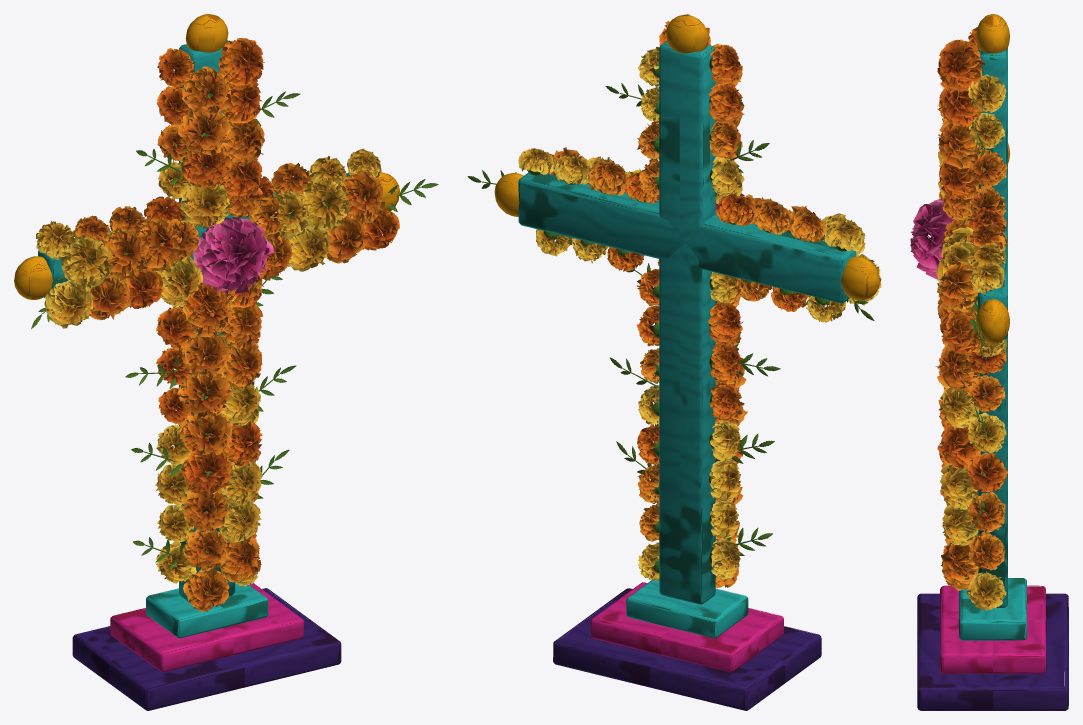
Rendered from w3_altar_crossmarigold.glb.
3 renders of one model, left to right at view 1: azimuth 30°, elevation 25°; view 2: azimuth 150°, elevation 25°; view 3: azimuth 270°, elevation 25°, orthographic.
Parts seen in each view (by area): view 1: w3_altar_crossmarigold; view 2: w3_altar_crossmarigold; view 3: w3_altar_crossmarigold.
Part boxes in pixels (x1,y1,x2,y2): w3_altar_crossmarigold: (14, 14, 438, 710); w3_altar_crossmarigold: (467, 14, 881, 710); w3_altar_crossmarigold: (910, 14, 1068, 710).
Bounding box in the file's own units: 0.6369 × 0.9422 × 0.2091.
3 materials, 3 textured.
